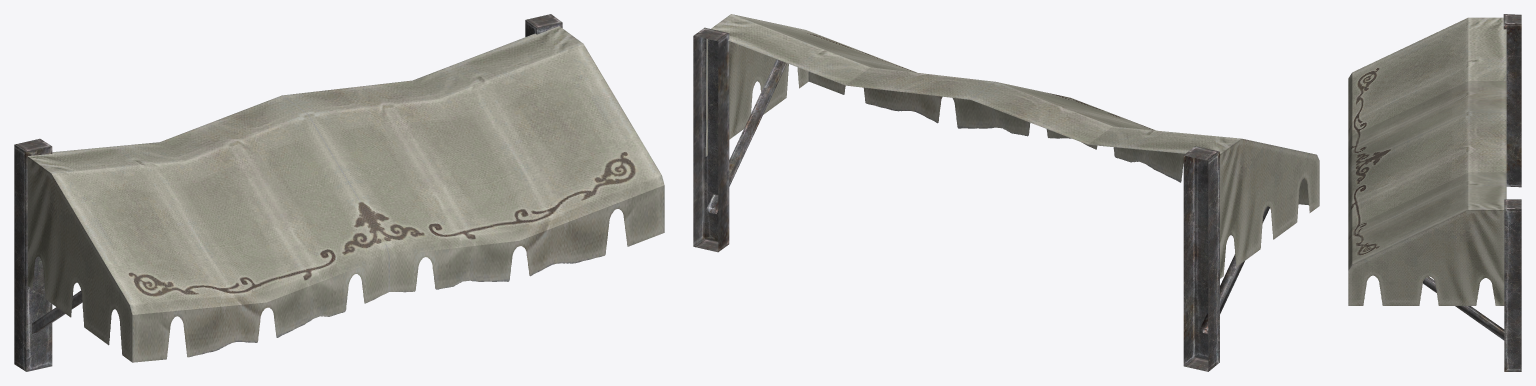
Rendered from bg_lut_lucastle_tent03a_sm_msj.FBX.
The picture shows the model from 3 angles, left to right: view 1: azimuth 30°, elevation 25°; view 2: azimuth 150°, elevation 25°; view 3: azimuth 270°, elevation 25°; orthographic projection. The views are drawn at different scales.
Parts seen in each view (by area): view 1: bg_lut_lucastle_tent03a_sm_msj; view 2: bg_lut_lucastle_tent03a_sm_msj; view 3: bg_lut_lucastle_tent03a_sm_msj.
Part boxes in pixels (box(x1,y1,x2,y2)): bg_lut_lucastle_tent03a_sm_msj: box(14, 14, 664, 371); bg_lut_lucastle_tent03a_sm_msj: box(693, 14, 1319, 371); bg_lut_lucastle_tent03a_sm_msj: box(1348, 14, 1521, 371).
Bounding box in the file's own units: 192 × 75.67 × 72.38.
